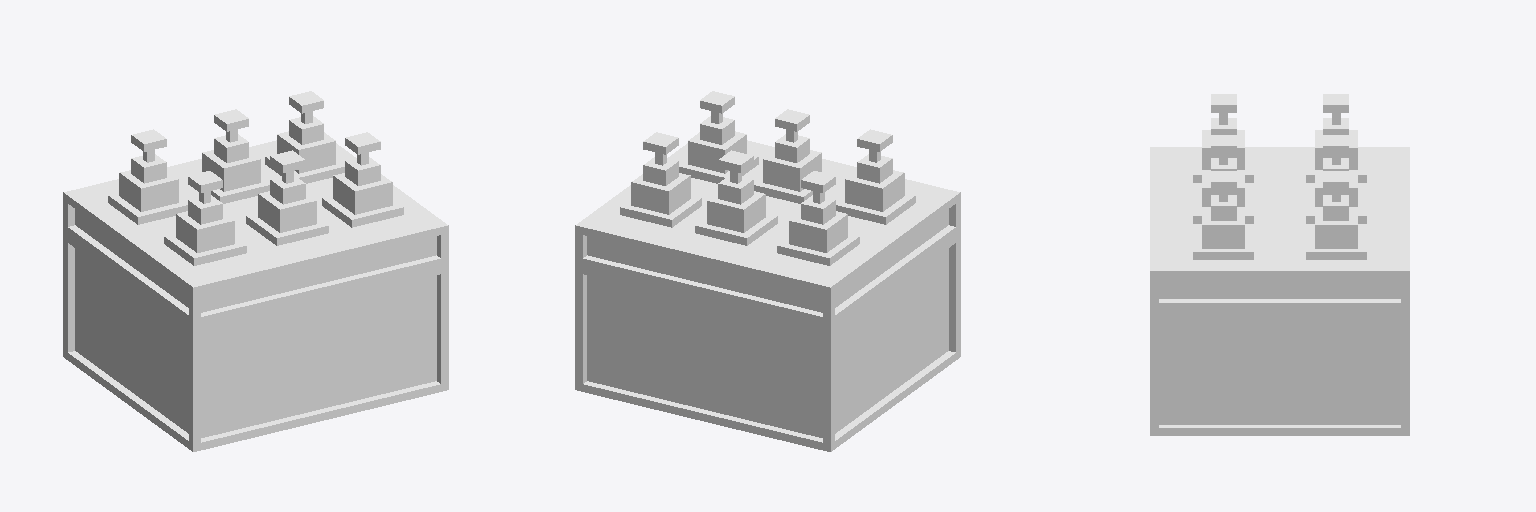
File: RocketTower-1.obj
3 views of the same model, side by side, from view 1: azimuth 30°, elevation 25°; view 2: azimuth 150°, elevation 25°; view 3: azimuth 270°, elevation 25° (orthographic).
Visible parts, largest first — view 1: object 1; view 2: object 1; view 3: object 1.
Part boxes in pixels (bbox=[...]): object 1: bbox=[63, 91, 448, 451]; object 1: bbox=[575, 91, 960, 451]; object 1: bbox=[1150, 94, 1409, 435].
Size of the model in its own units: 3.4 by 3 by 3.